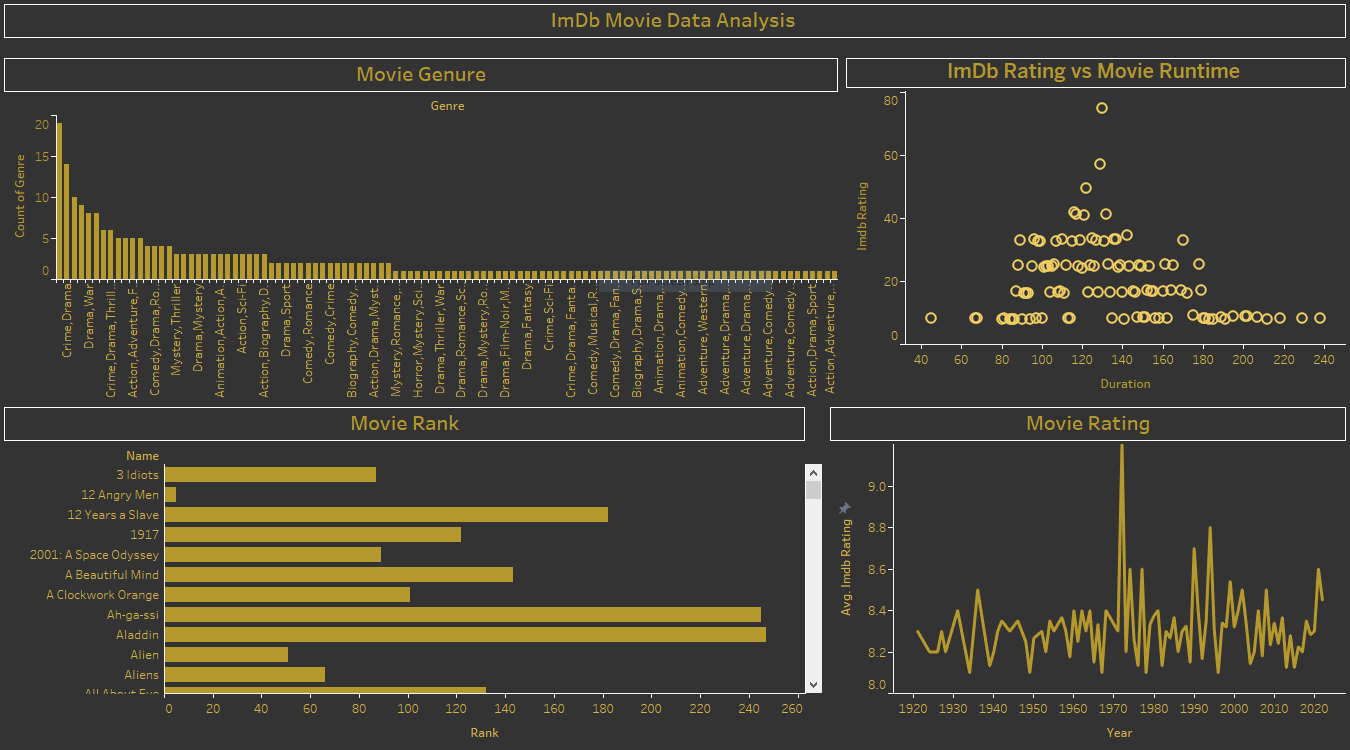

This screenshot's page, from the dashboard's own definition file:
{"tool":"tableau","page":{"name":"ImDb dash","canvas":[1366,768],"ordinal":0},"visuals":[{"type":"worksheet","title":"TiTle","mark":"Automatic","box":[8,8,1350,54]},{"type":"worksheet","title":"Movie Genure","mark":"Bar","rows":["genre"],"cols":["genre"],"box":[8,62,842,349]},{"type":"worksheet","title":"ImDb Rating vs Movie Runtime ","mark":"Shape","rows":["imdb_rating"],"cols":["duration"],"box":[850,62,508,349]},{"type":"worksheet","title":"Rank","mark":"Automatic","rows":["name"],"cols":["rank"],"box":[8,411,826,349]},{"type":"worksheet","title":"Movie Rating","mark":"Line","rows":["imdb_rating"],"cols":["year"],"box":[834,411,524,349]}]}

Visuals, with their boxes in screenshot pixels (x1, y1, x2, y2), scaled from the page's 1366x768 canvas onto the 1350x750 screenshot:
"TiTle" worksheet: box=[8, 8, 1342, 61]
"Movie Genure" worksheet (Bar marks): box=[8, 61, 840, 401]
"ImDb Rating vs Movie Runtime " worksheet (Shape marks): box=[840, 61, 1342, 401]
"Rank" worksheet: box=[8, 401, 824, 742]
"Movie Rating" worksheet (Line marks): box=[824, 401, 1342, 742]
